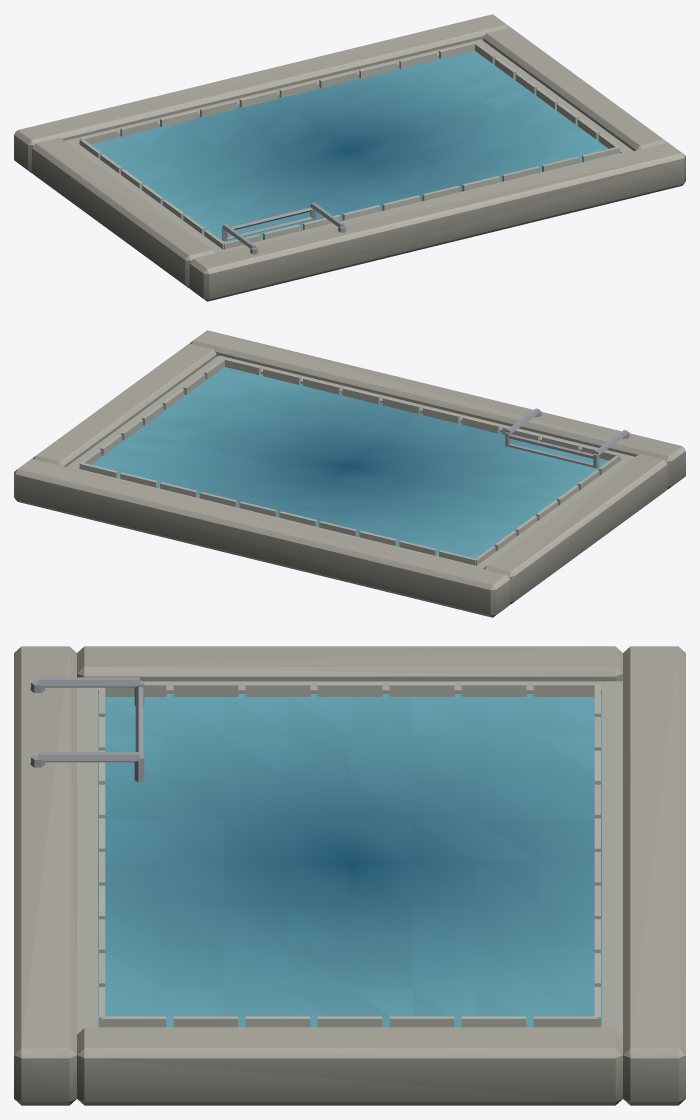
Rendered from swimming-pool.glb.
3 views of the same model, one above another, from view 1: azimuth 30°, elevation 25°; view 2: azimuth 150°, elevation 25°; view 3: azimuth 270°, elevation 25° (orthographic). The views are drawn at different scales.
Visible parts, largest first — view 1: swimming_pool; view 2: swimming_pool; view 3: swimming_pool.
Part boxes in pixels (x1,y1,x2,y2): swimming_pool: (14,14,685,301); swimming_pool: (14,330,685,617); swimming_pool: (14,646,685,1105).
Bounding box in the file's own units: 4.6 × 0.3611 × 3.2.
